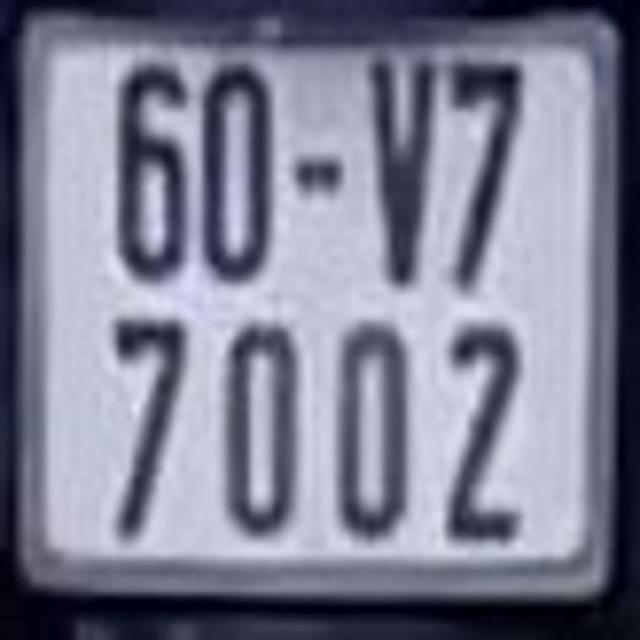0: (340, 318, 410, 542), (224, 321, 292, 530), (205, 63, 270, 276)
2: (447, 319, 523, 539)
6: (115, 60, 192, 287)
7: (446, 59, 526, 295), (115, 310, 192, 532)
V: (364, 57, 434, 282)
